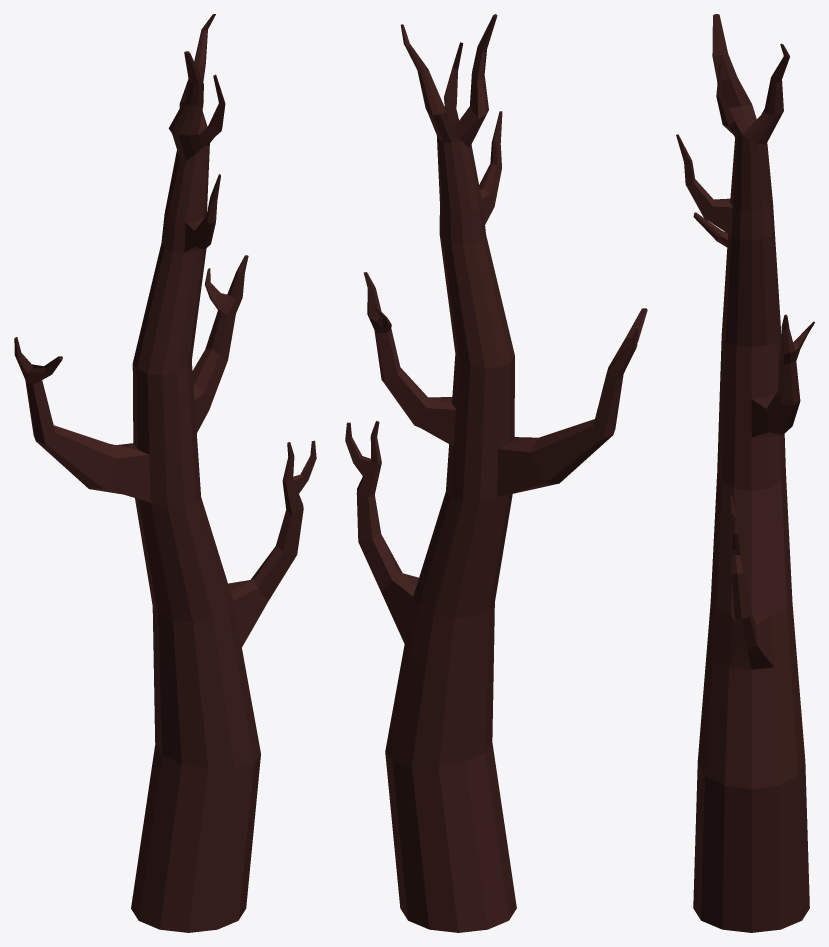
Rendered from Tree6b.fbx.
3 renders of one model, left to right at view 1: azimuth 30°, elevation 25°; view 2: azimuth 150°, elevation 25°; view 3: azimuth 270°, elevation 25°, orthographic.
Visible parts, largest first — view 1: Tree6.001; view 2: Tree6.001; view 3: Tree6.001.
Part boxes in pixels (x1,y1,x2,y2): Tree6.001: (14, 14, 316, 932); Tree6.001: (345, 14, 647, 932); Tree6.001: (676, 14, 814, 932).
Bounding box in the file's own units: 593 × 1674 × 238.
